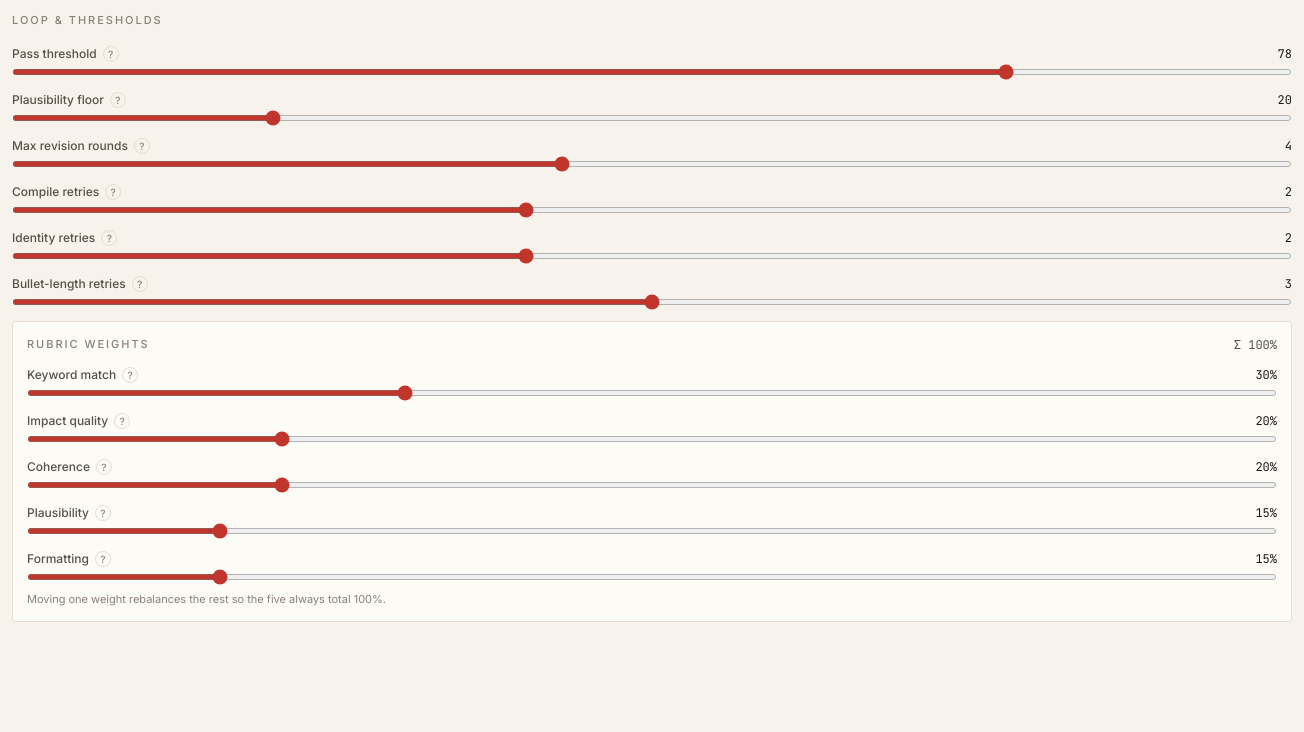
Test: TuningControls › exposes a keyboard-reachable help tip that explains a field on focus
Focus the button named "about pass threshold". click: (111, 54)
box: top-left (103, 46), bottom-right (119, 62)
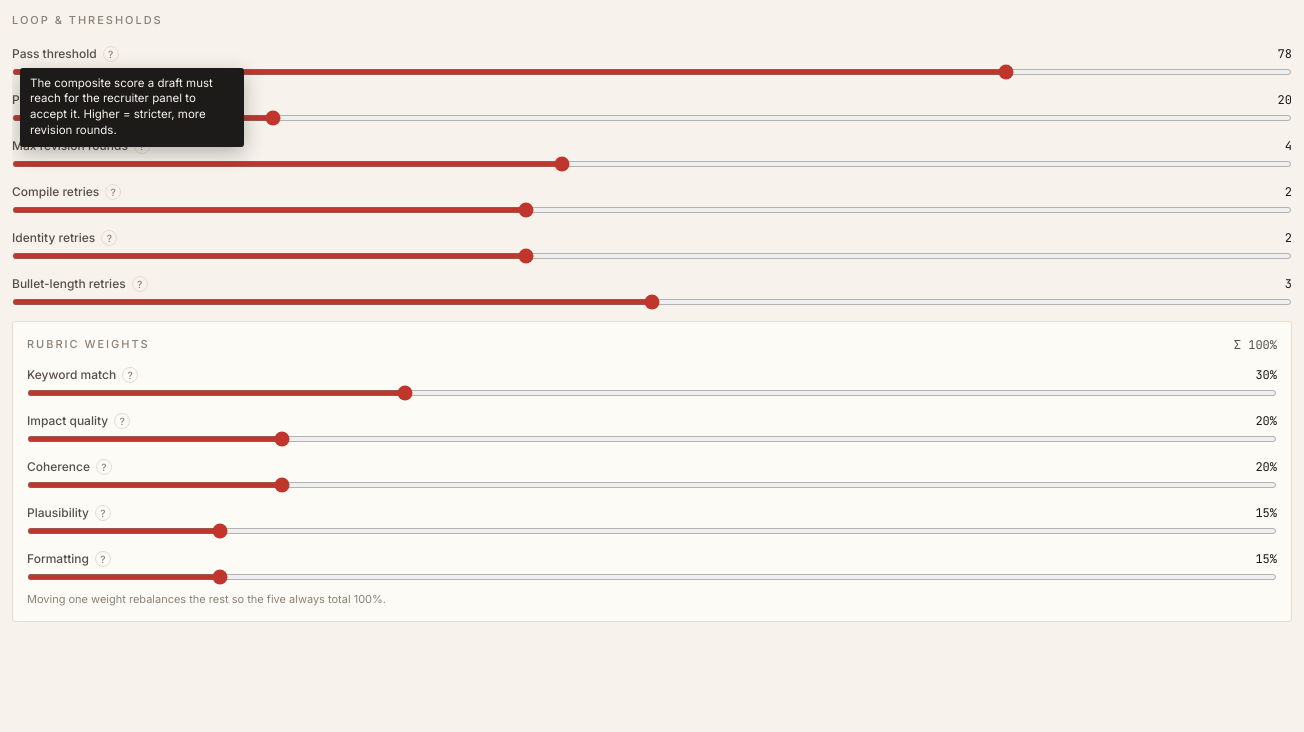
expect the tooltip shows "composite score": met, box top-left (30, 76), bottom-right (213, 137)
